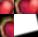heart: (14, 0, 38, 14), (0, 14, 14, 37), (0, 0, 14, 14)
